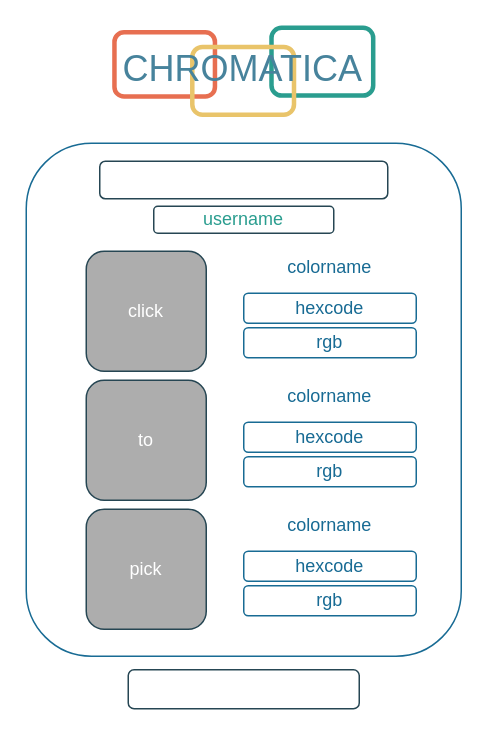
Image size: 488x735. Some labels were removed from this diagram. Here are the shapes that lost their labels. From the top down, the box of each, then its label:
(98, 160, 388, 199): palettename
(127, 668, 359, 709): save palette
